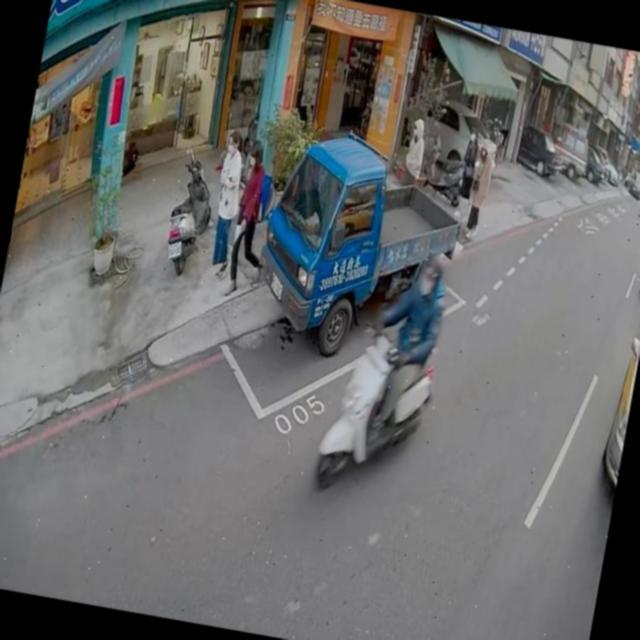person: (358, 253, 457, 456), (218, 138, 284, 297), (200, 131, 250, 284), (462, 138, 498, 241), (450, 126, 486, 215), (401, 115, 432, 188)
